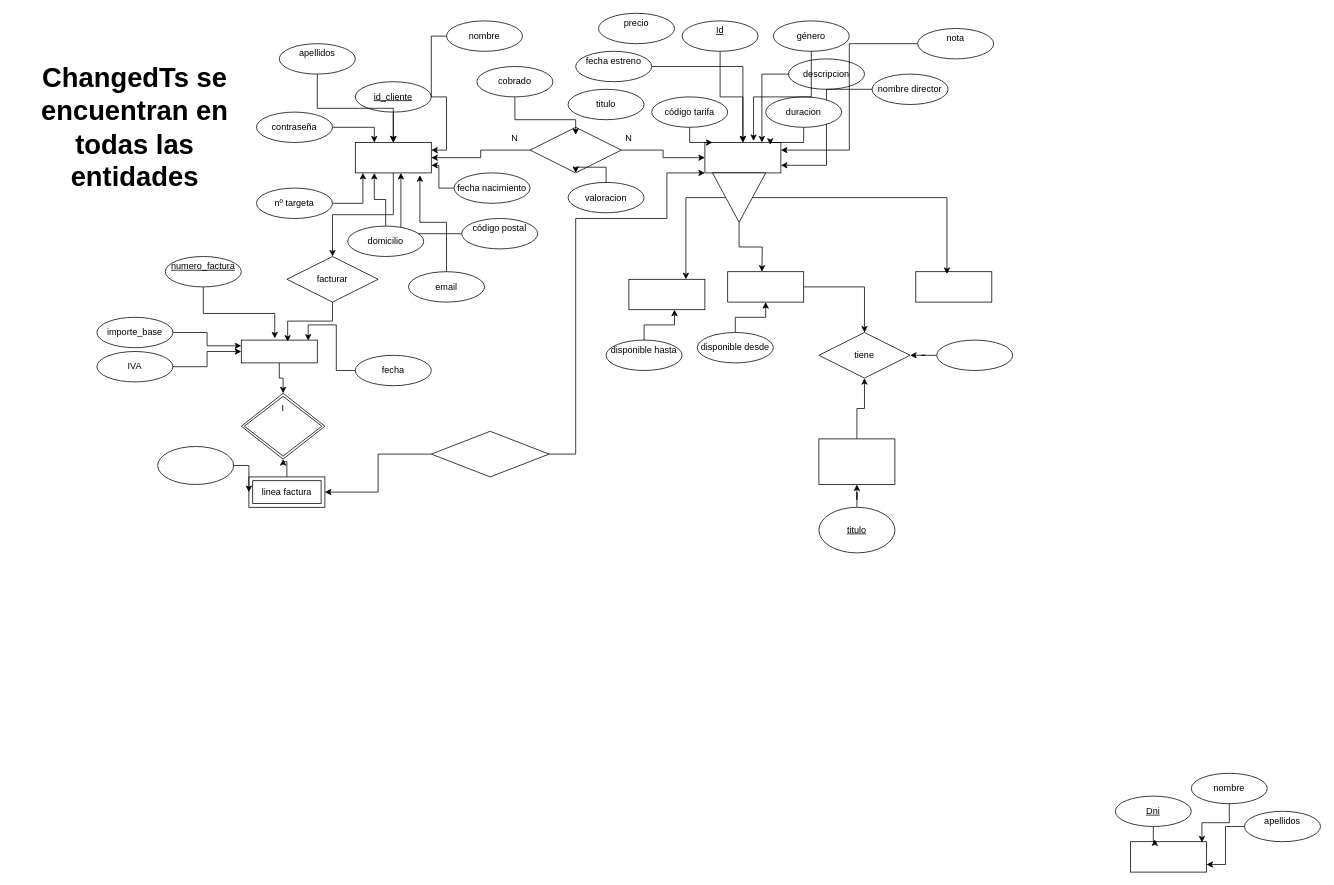
Some shapes in this 1334 by 885 pixel diagram are drawn without their labels. Here are the shapes that lost their labels. From the top down, the box of each, then its label:
(355, 142, 431, 173): Clientes
(529, 127, 621, 173): almacen
(704, 142, 781, 173): Contenido Audiovisual
(628, 279, 705, 310): Peliculas
(727, 271, 804, 302): capitulos
(915, 271, 992, 302): Cortos
(241, 339, 317, 363): Factura
(936, 339, 1013, 370): temporadas
(241, 393, 325, 459): se compone
(157, 446, 234, 484): numero de linea
(431, 431, 549, 477): alquila
(818, 438, 895, 484): Serie
(1130, 841, 1206, 872): Actor principal
